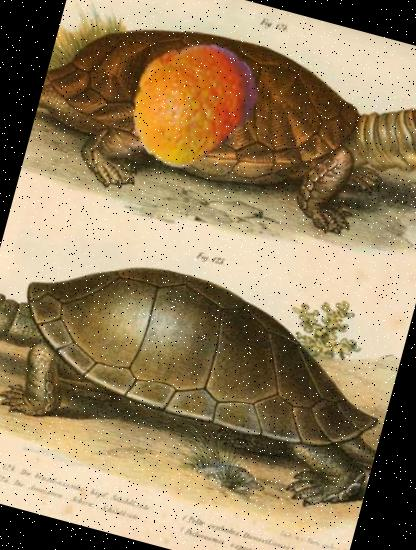Mandarine: (110, 20, 274, 183)
